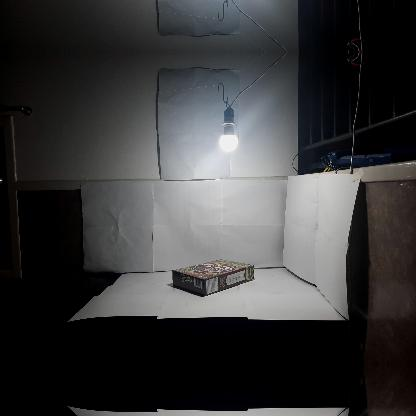Koko-Krunch: (172, 258, 254, 296)
